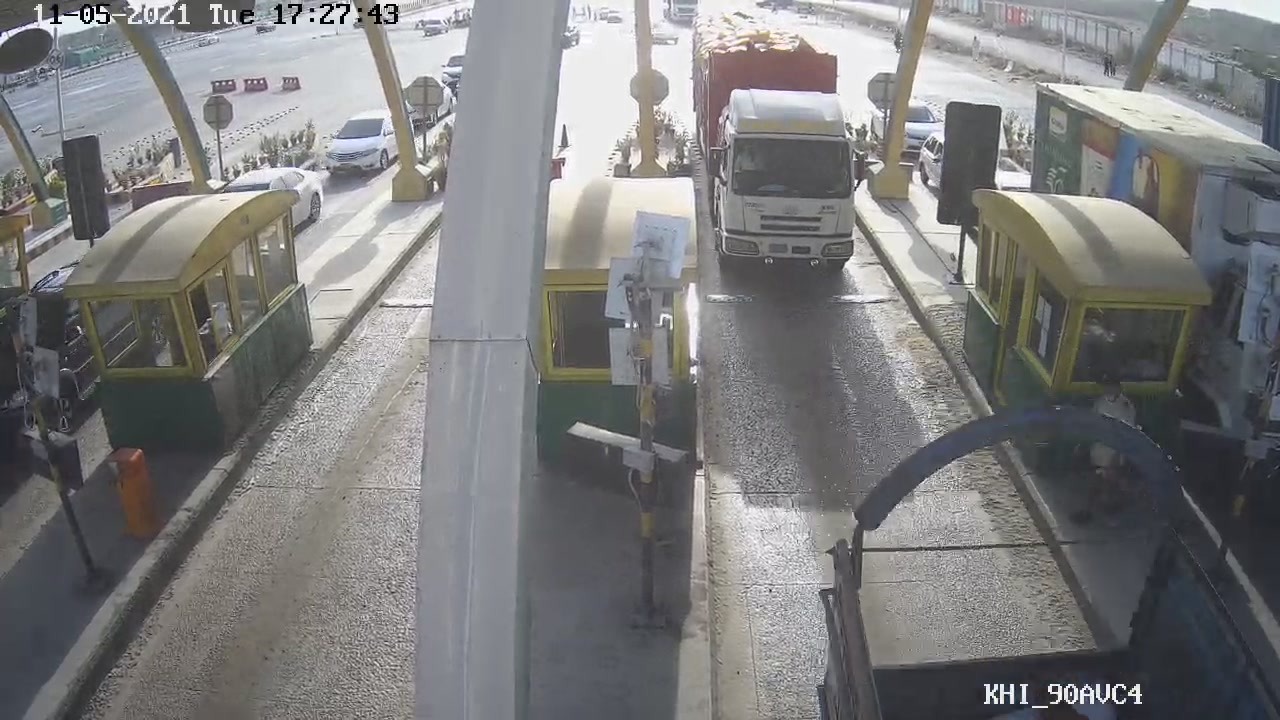F6: (694, 23, 880, 271)
